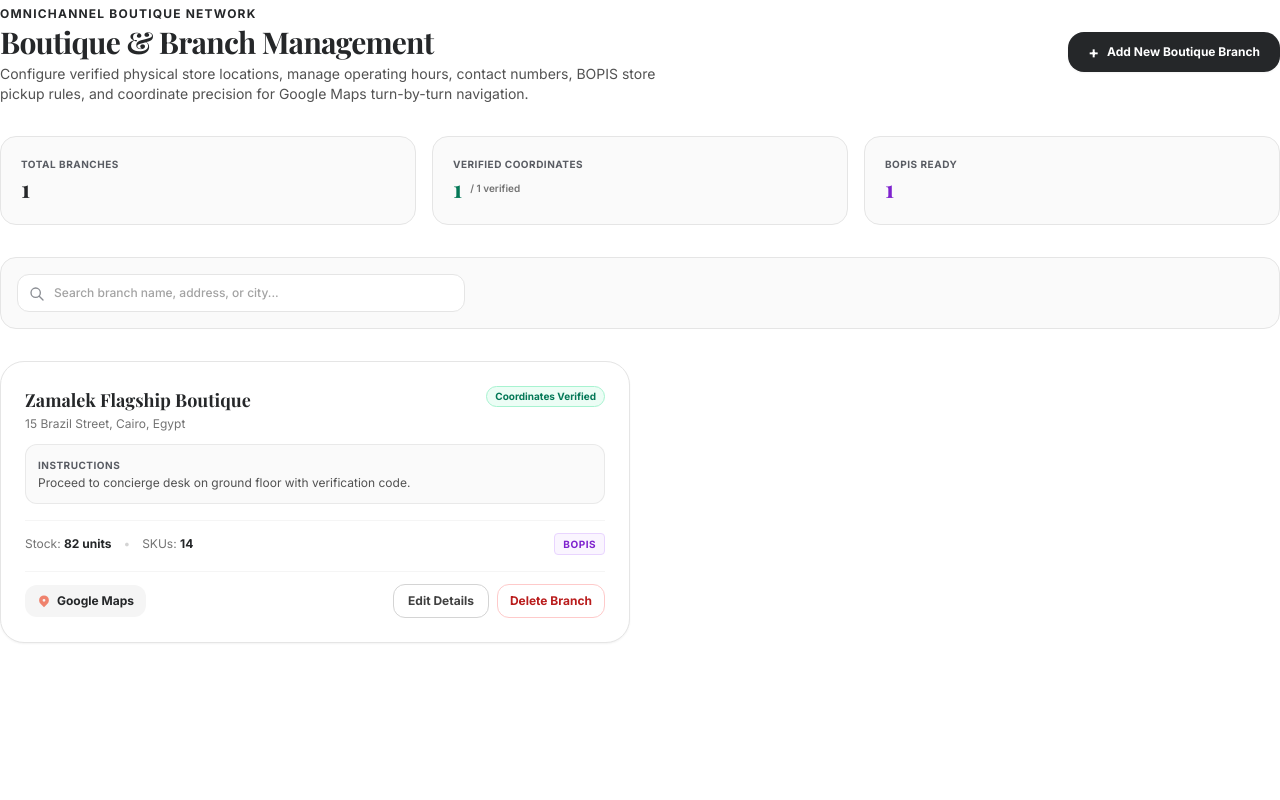
Test case: Branch Management Hub (BrandBranchesView) › validates coordinate range (-90 to 90, -180 to 180)
The width and height of the screenshot is (1280, 800).
Expected: the heading "Zamalek Flagship Boutique" is shown, [25,386,251,414]
// Open Add Branch modal
Click the button "+ Add New Boutique Branch" at (1174, 52), box [1068,32,1279,72]
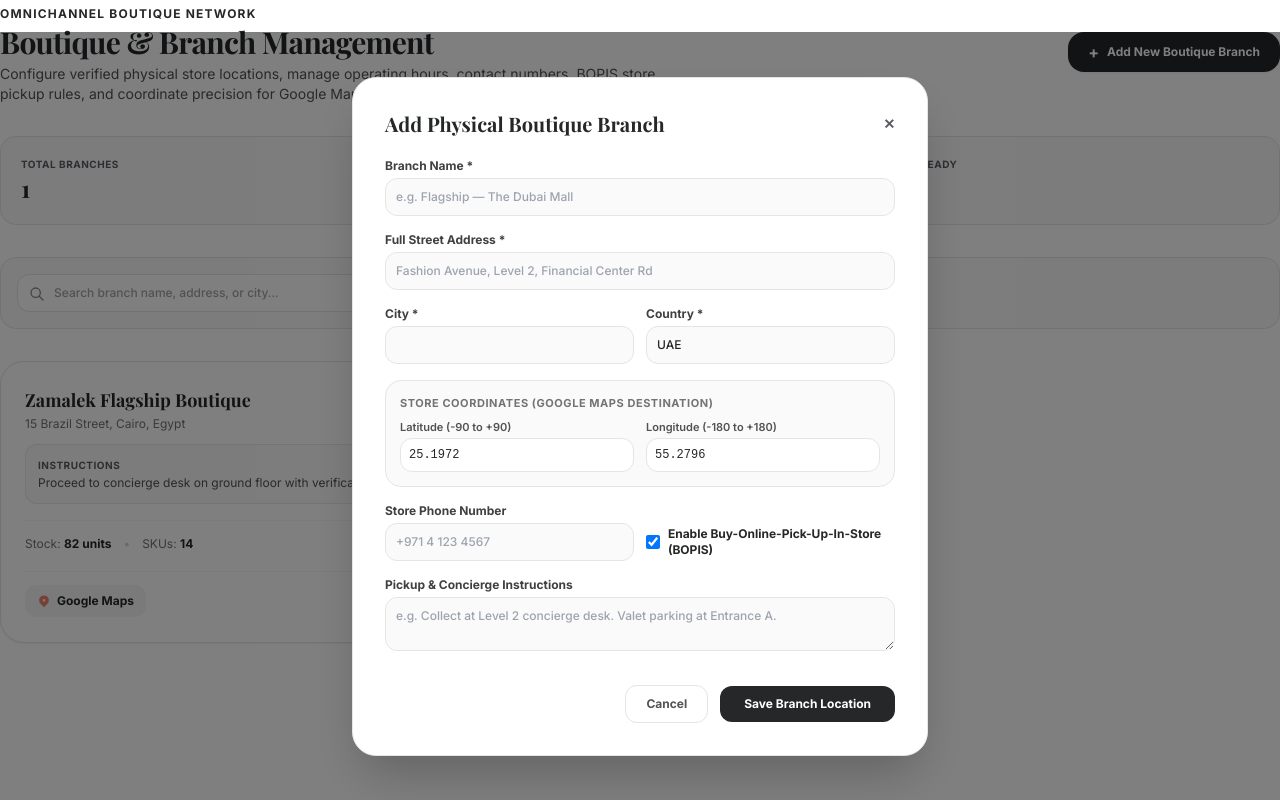
Result: the heading "Add Physical Boutique Branch" is shown at [385,110,664,138]
// Fill valid store name and address
Type "Downtown Boutique" into the field named "name" at (640, 196), box [385,178,895,216]
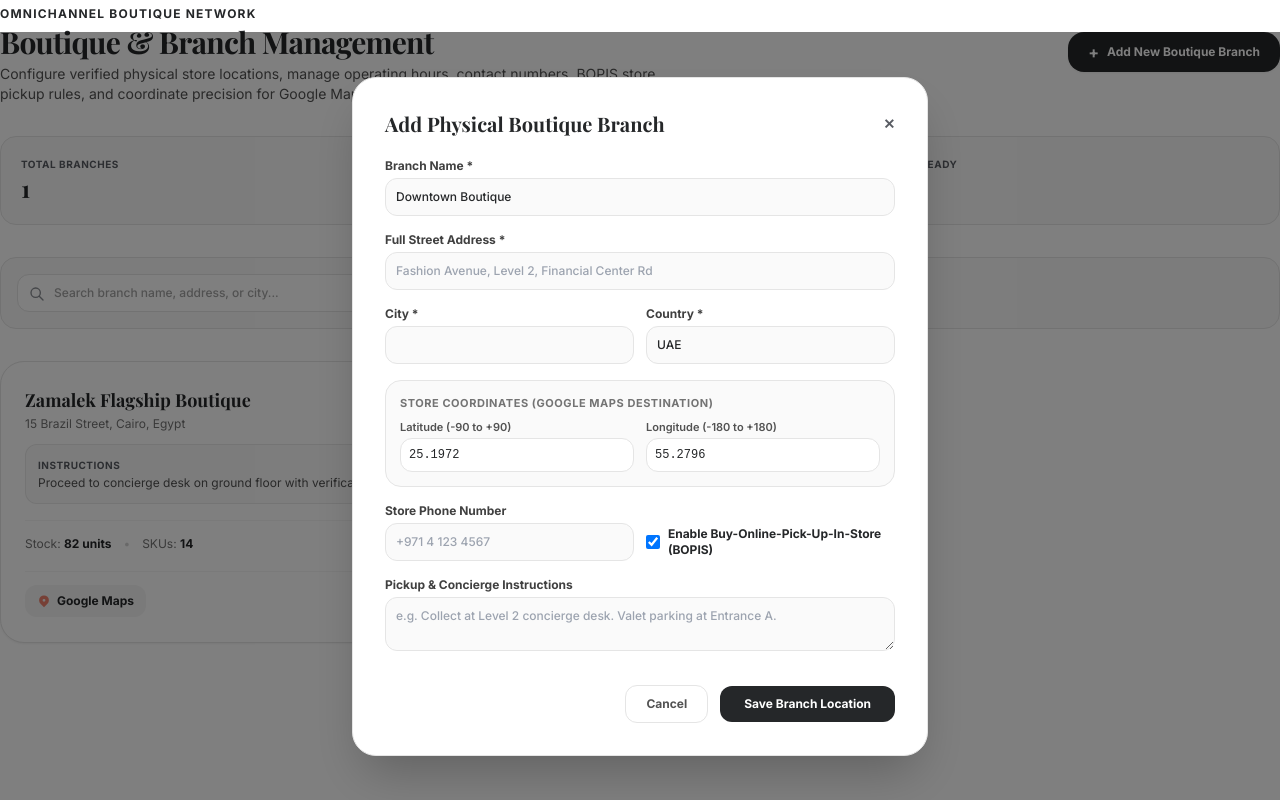
Type "Tahrir Square" into the field named "address" at (640, 270), box [385,252,895,290]
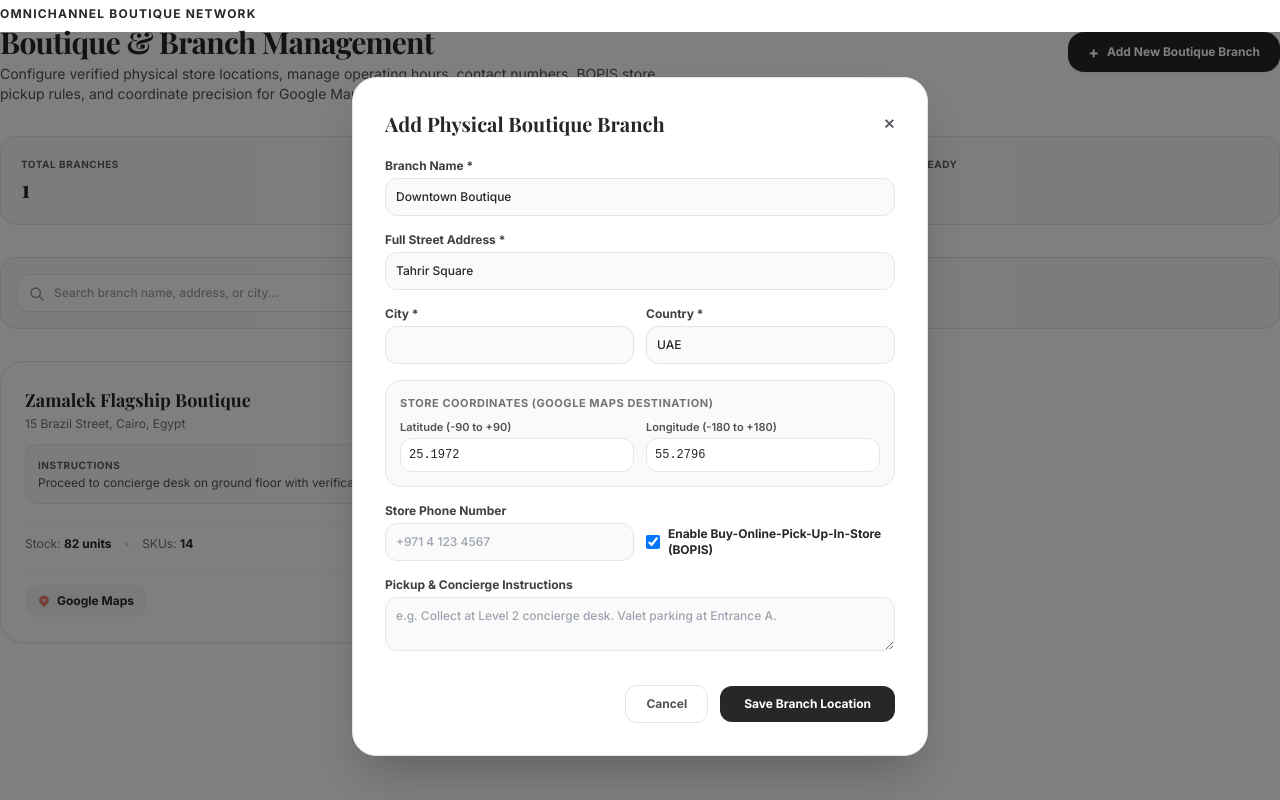
Replace the text in the number field named "latitude" below "Latitude (-90 to +90)" with "95.5" at (517, 454), box [400,438,634,472]
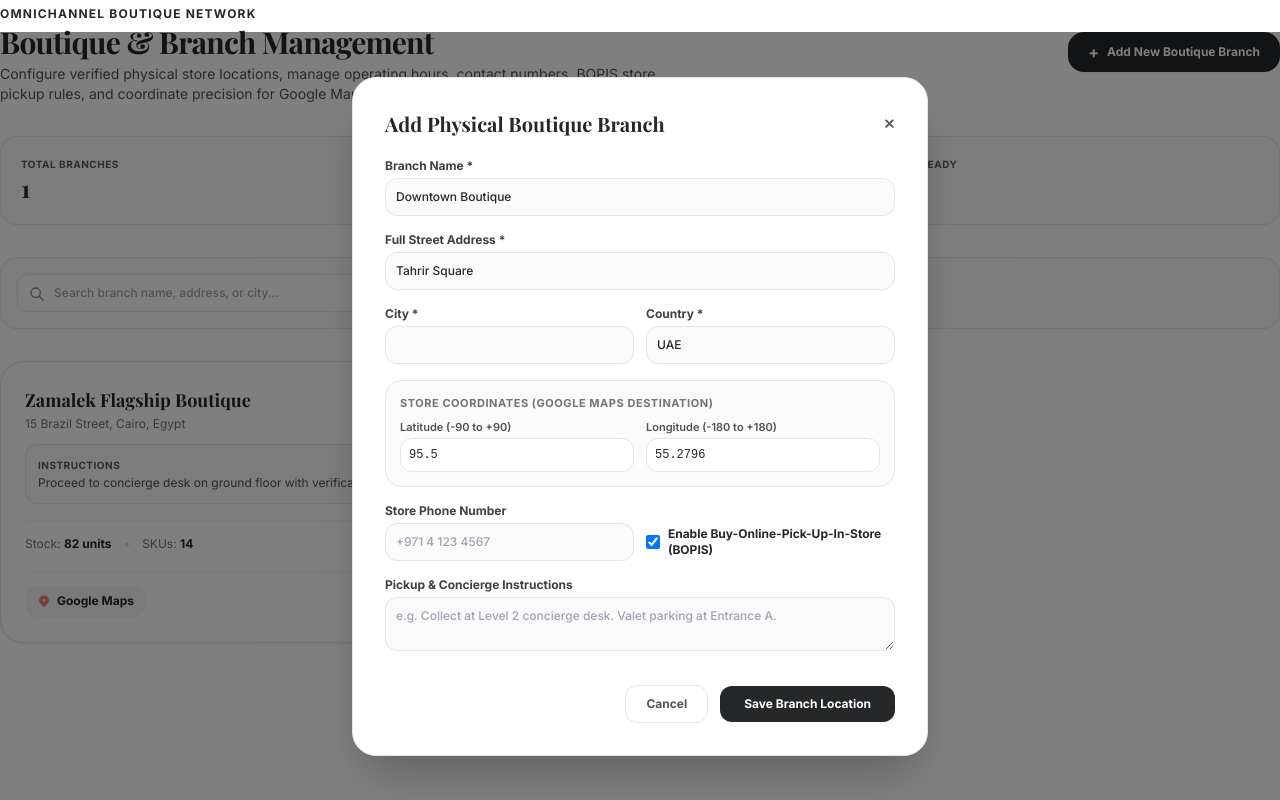
Click the button "Save Branch Location" at (808, 704), box [720,686,895,722]
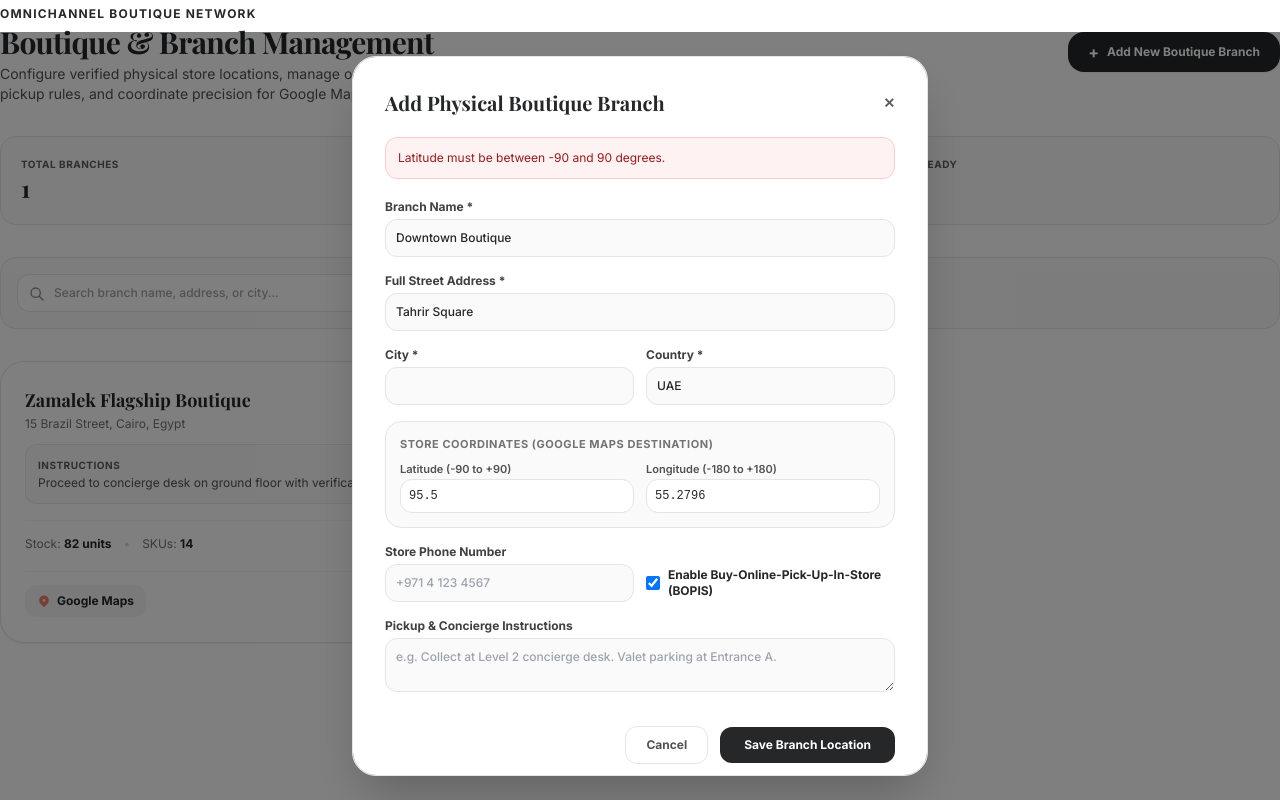
Result: the text "Latitude must be between -90 and 90 degrees." is shown at [385,137,895,179]
